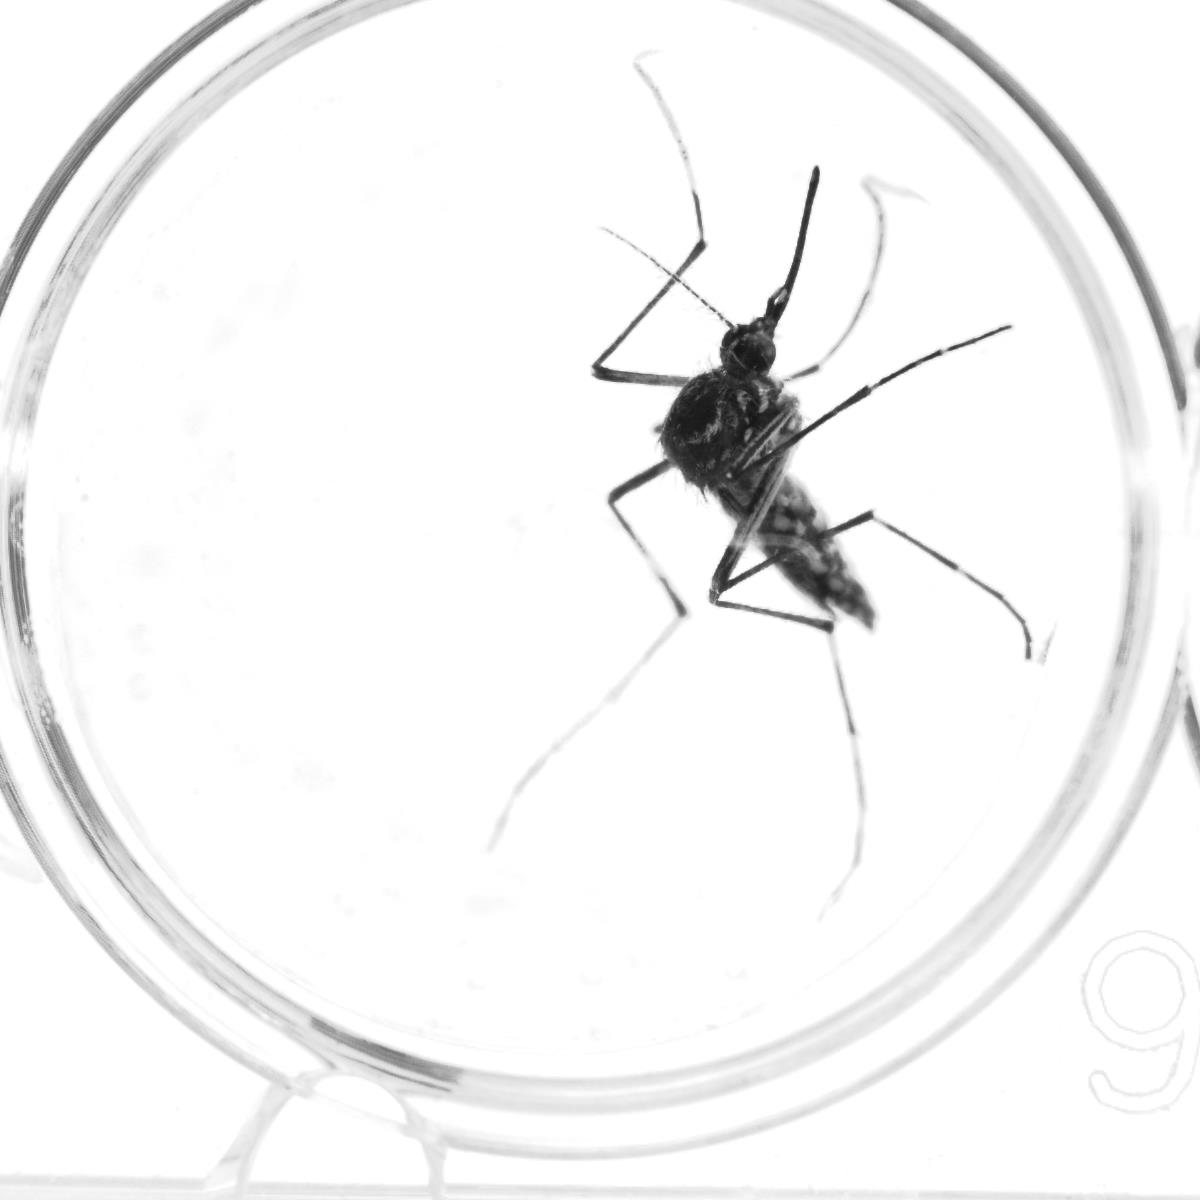f-a: (655, 177, 873, 375)
f-b: (549, 163, 1021, 790)
f-c: (840, 590, 895, 646)
